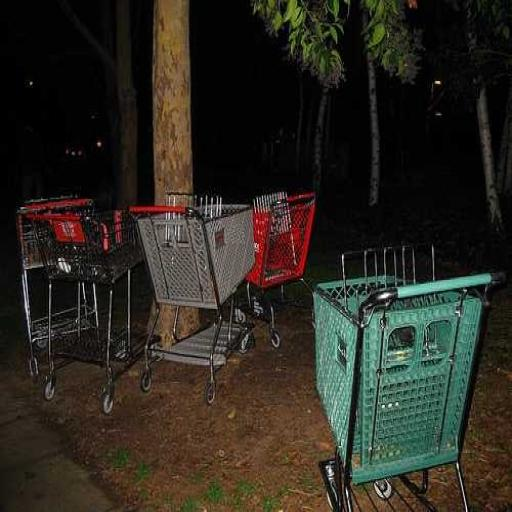shopping_cart: (310, 245, 503, 512), (128, 190, 256, 410), (29, 208, 151, 414), (16, 198, 106, 385), (235, 189, 319, 349)
